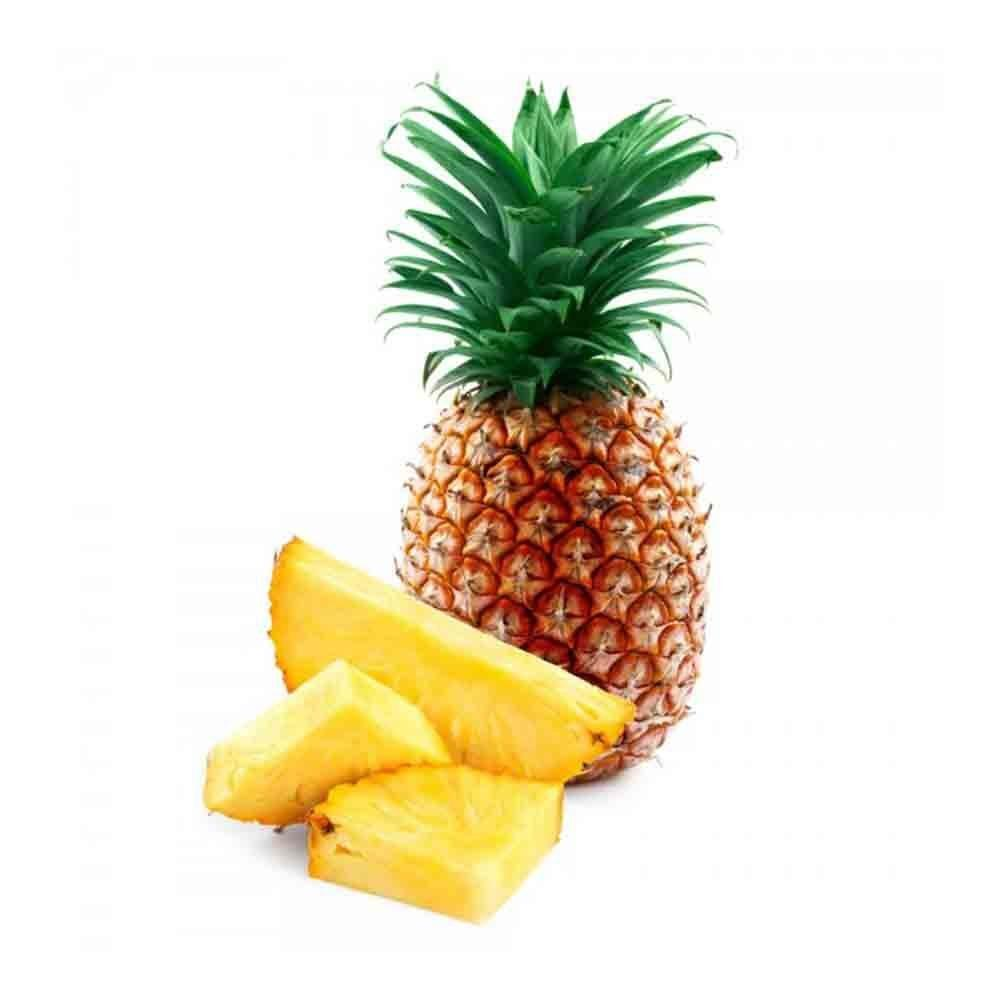pineapple: (374, 365, 724, 715)
